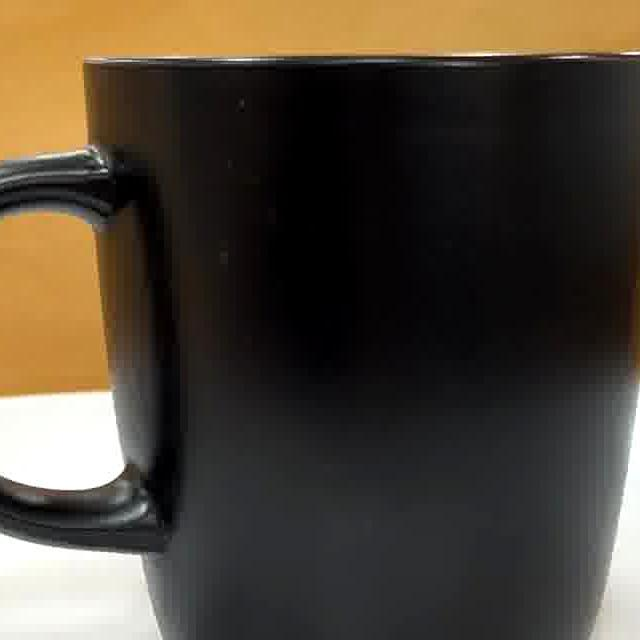cup: (0, 55, 640, 640)
